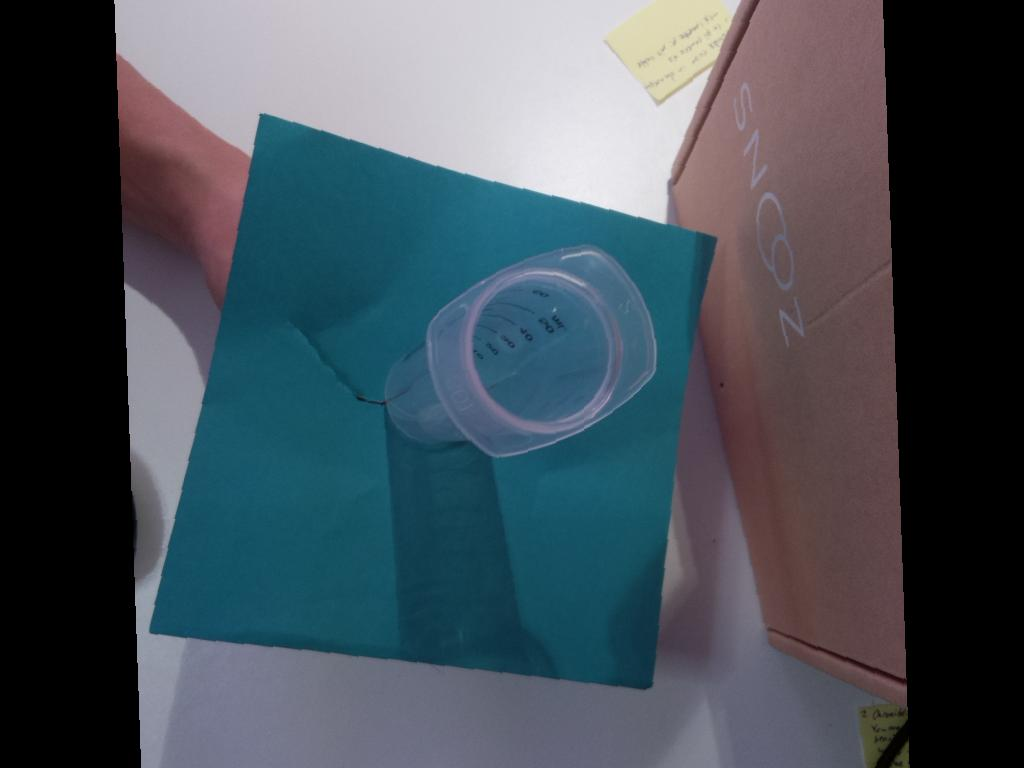clean: (423, 240, 660, 458)
